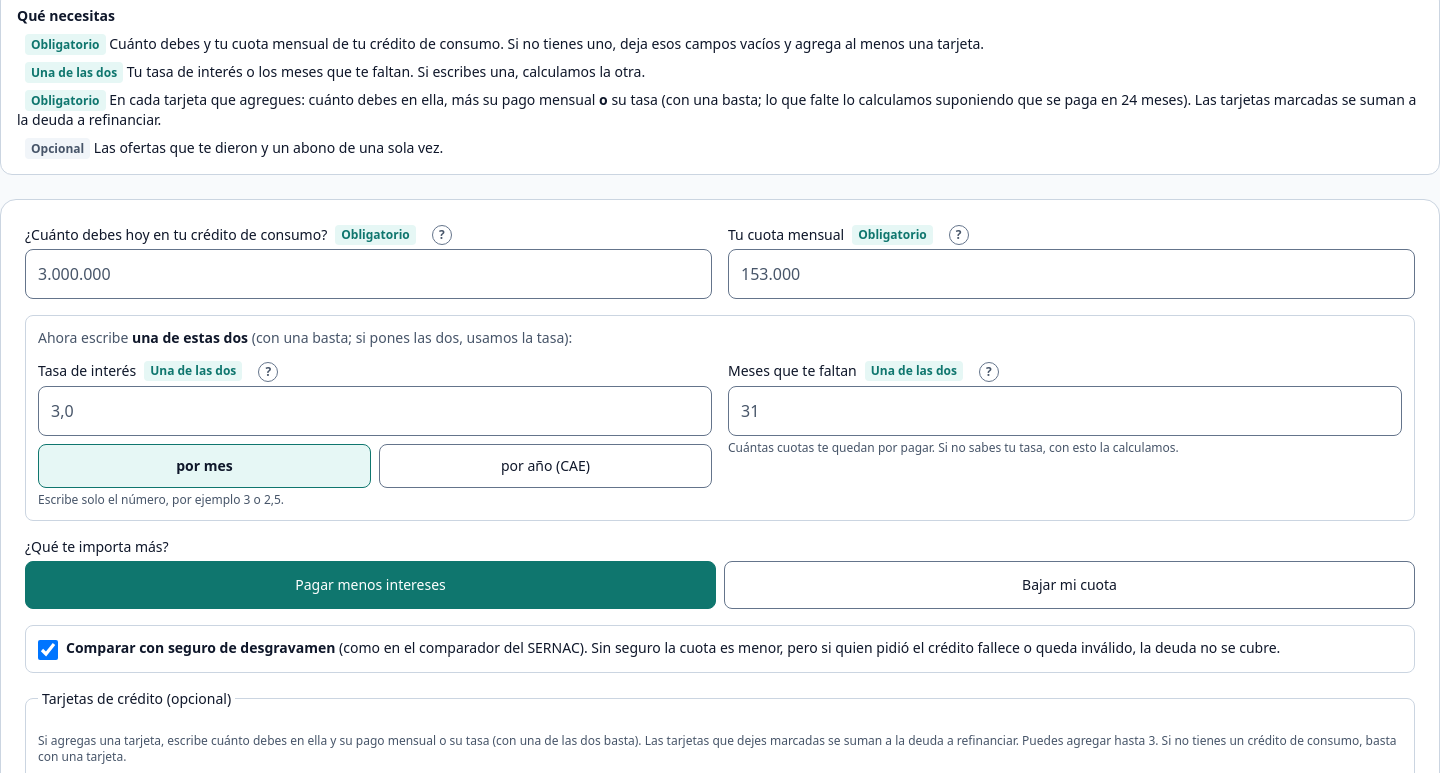
Test case: Resultado › un clic: 3 a 5 opciones en lenguaje simple y la mejor destacada arriba
In the field labelled "¿Cuánto debes hoy en tu crédito de consumo?": (368, 274) [25, 249, 712, 299], type "3000000"
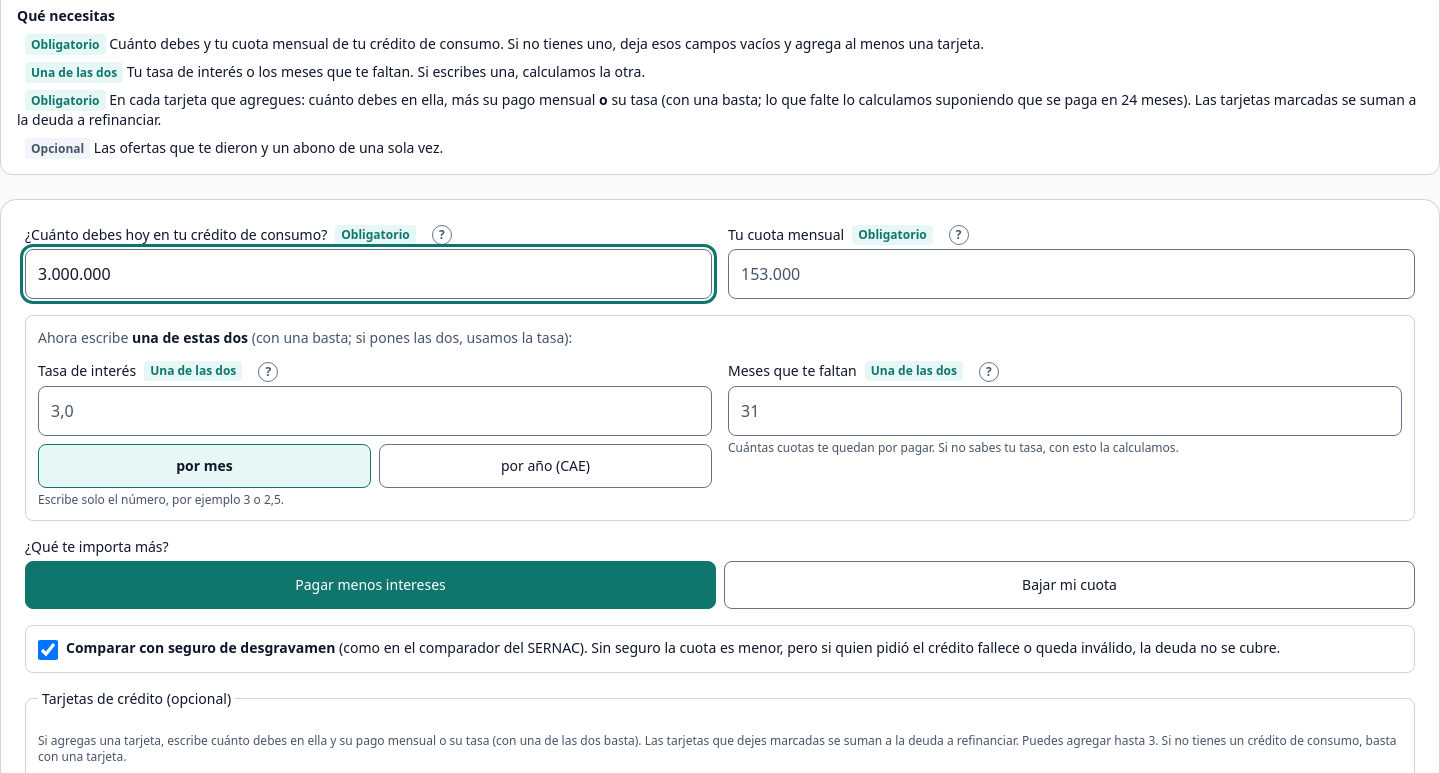
In the field labelled "Tu cuota mensual": (1072, 274) [728, 249, 1415, 299], type "153000"
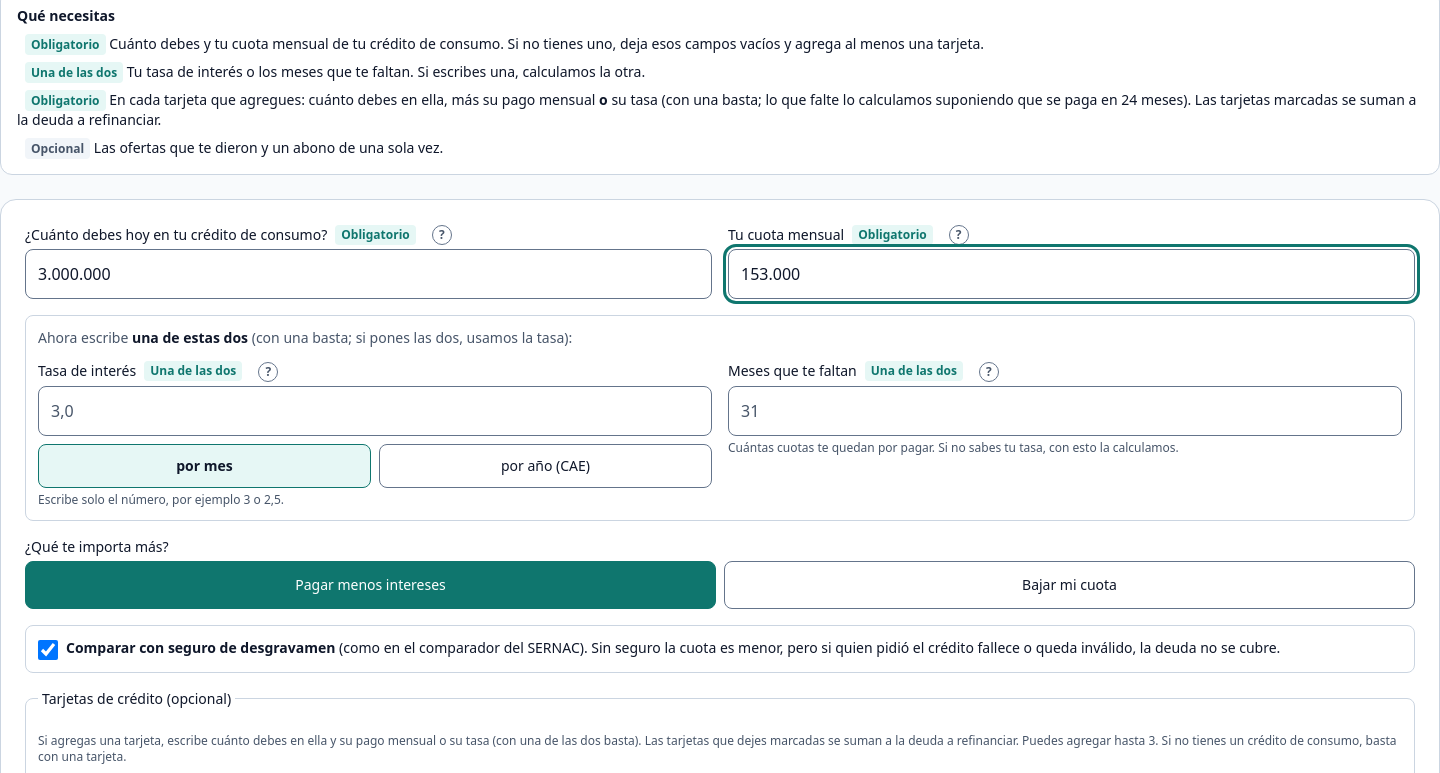
In the field labelled "Tasa de interés": (375, 410) [38, 386, 712, 436], type "3"
(page scrolled)
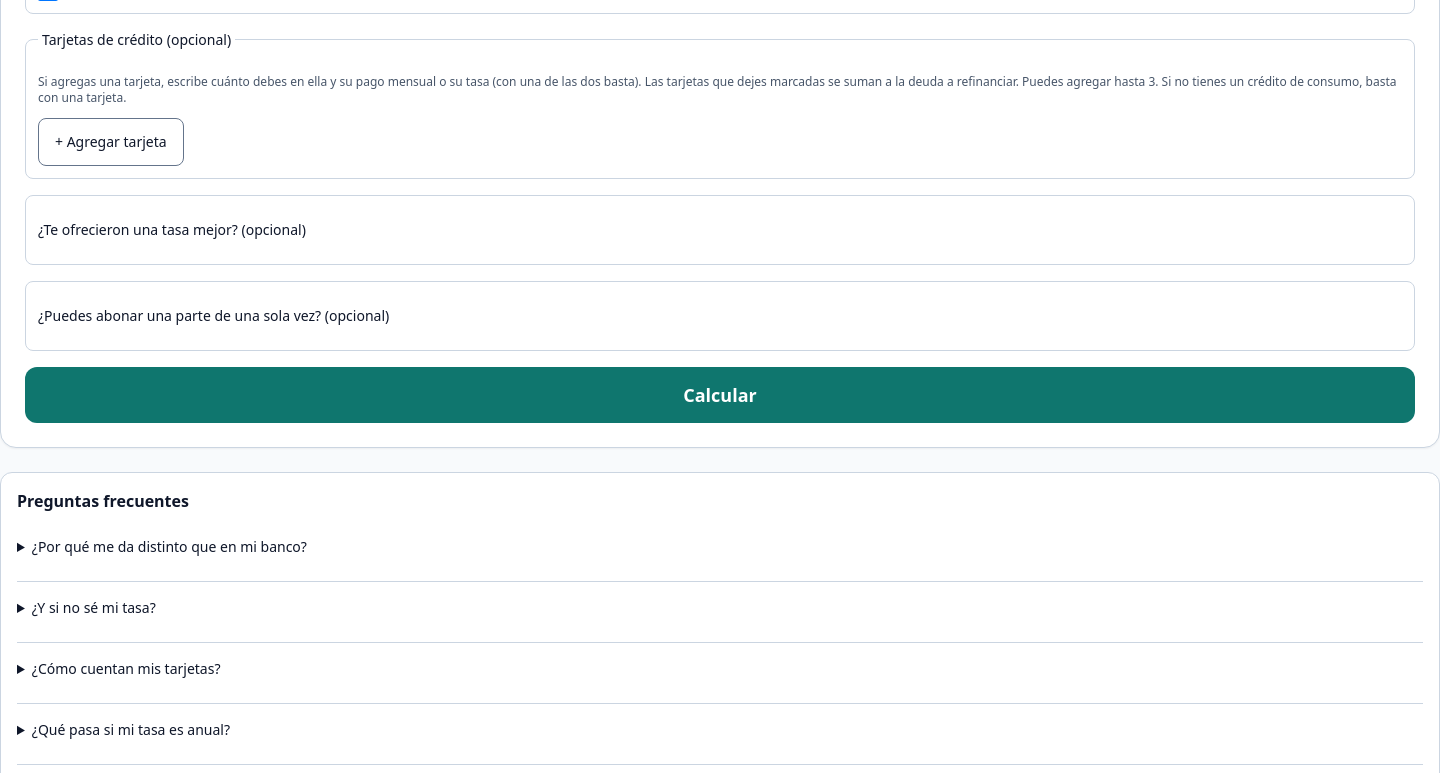
Click the button "Calcular": click(720, 394) [25, 366, 1415, 422]
(page scrolled)
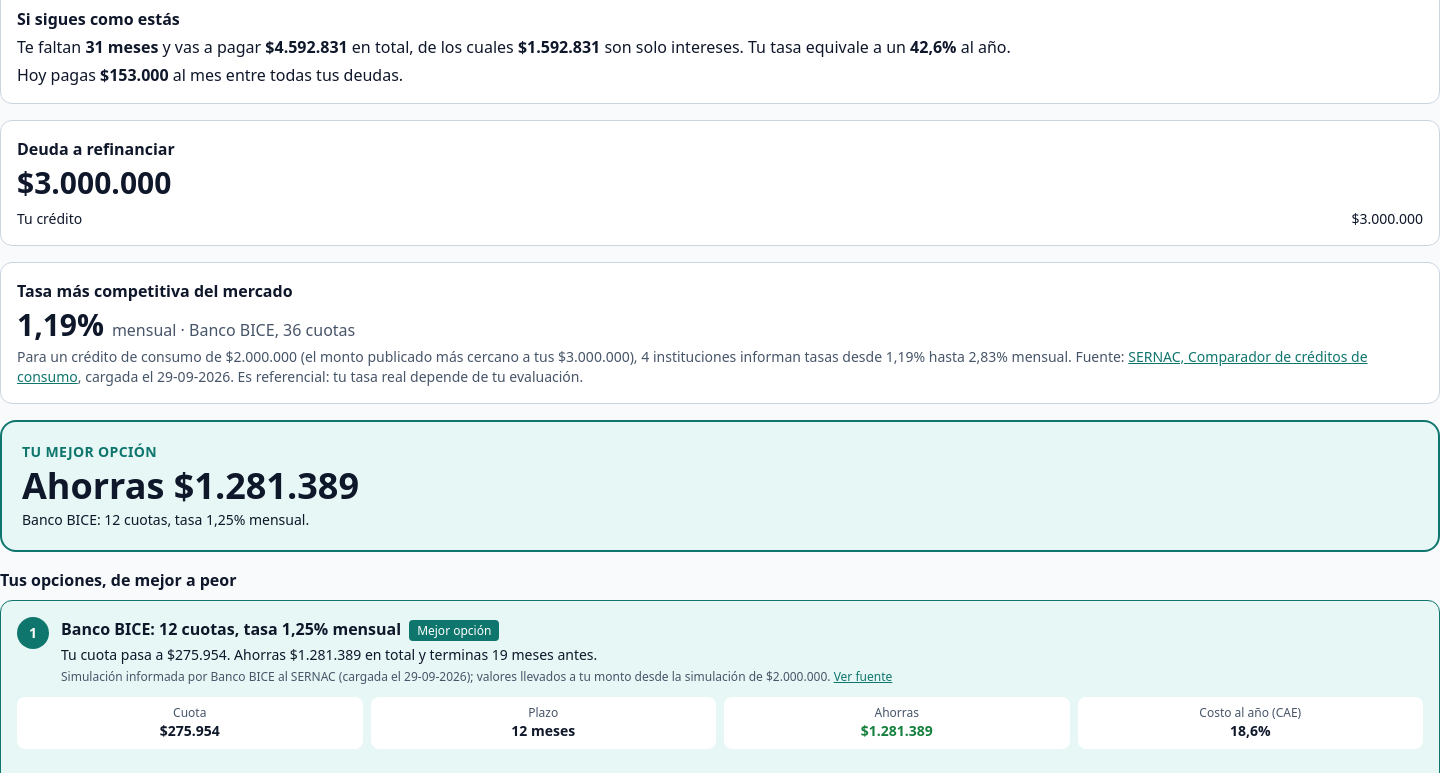
Expected: the list item shows "Mejor opción", [417, 622, 491, 638]
Expected: the heading "Tu mejor opción" is shown, [22, 442, 157, 460]
